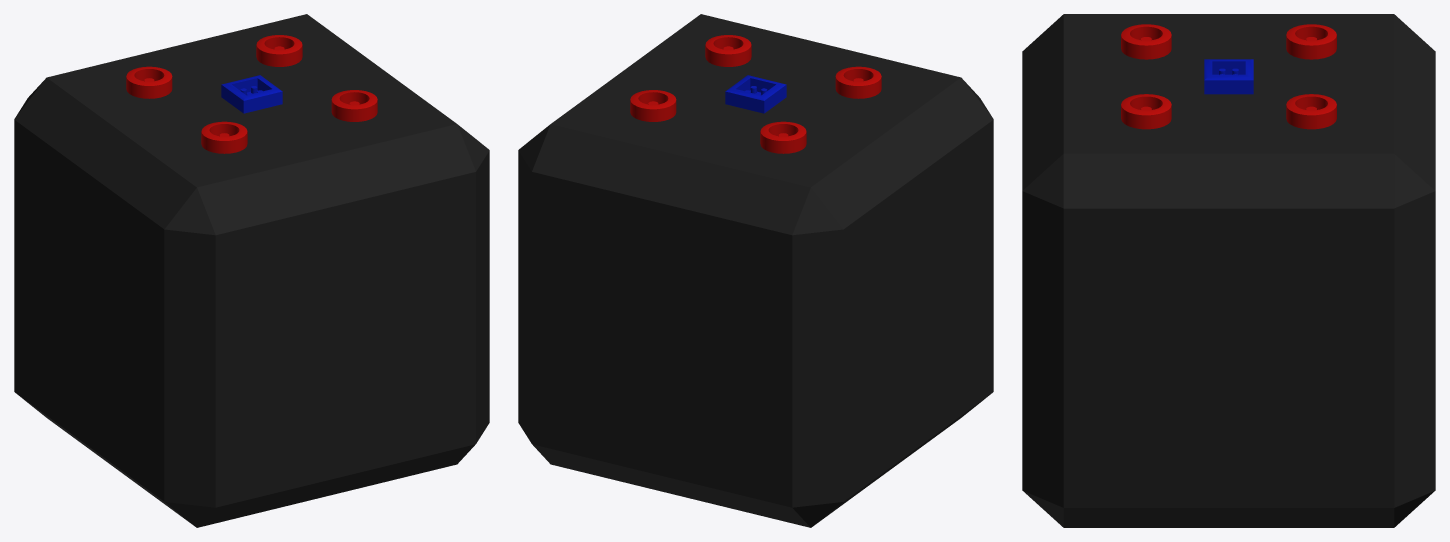
File: Battery.gltf
The picture shows the model from 3 angles, left to right: view 1: azimuth 30°, elevation 25°; view 2: azimuth 150°, elevation 25°; view 3: azimuth 270°, elevation 25°; orthographic projection. The views are drawn at different scales.
Parts seen in each view (by area): view 1: Cube; view 2: Cube; view 3: Cube.
Boxes of the visible parts, box(x1,y1,x2,y2) form: Cube: box(14, 14, 489, 527); Cube: box(518, 14, 993, 527); Cube: box(1022, 14, 1435, 527).
Bounding box in the file's own units: 0.5 × 0.5206 × 0.5.
